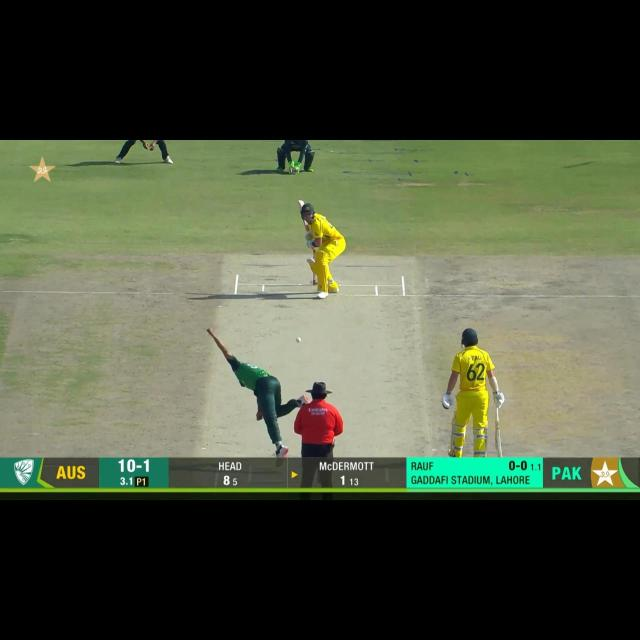bat: (297, 199, 314, 233), (493, 421, 506, 457)
toe: (492, 447, 505, 459), (296, 197, 306, 208)
